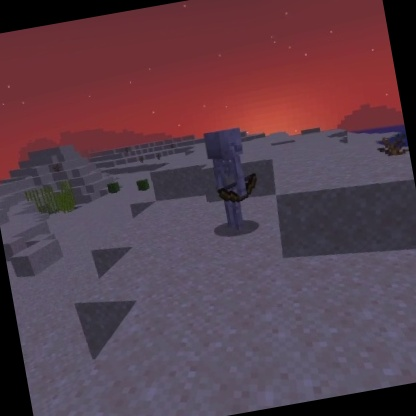skeleton: (200, 121, 268, 235)
